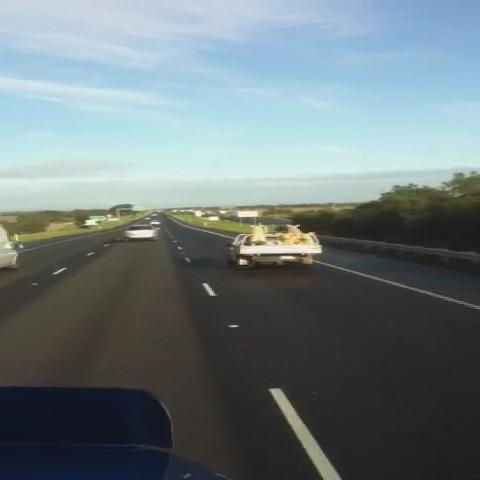car: (123, 224, 159, 241), (150, 220, 161, 225), (152, 213, 158, 217), (144, 218, 151, 220)
truck: (225, 233, 323, 268), (0, 221, 23, 270)
